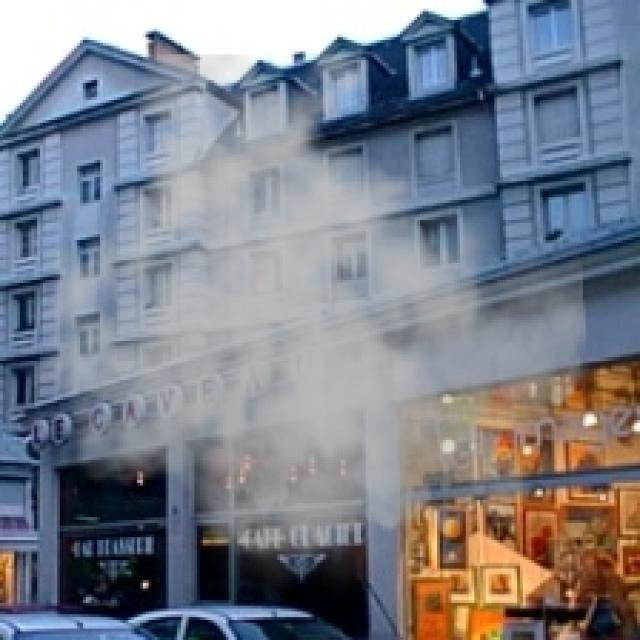smoke: (26, 54, 588, 612)
